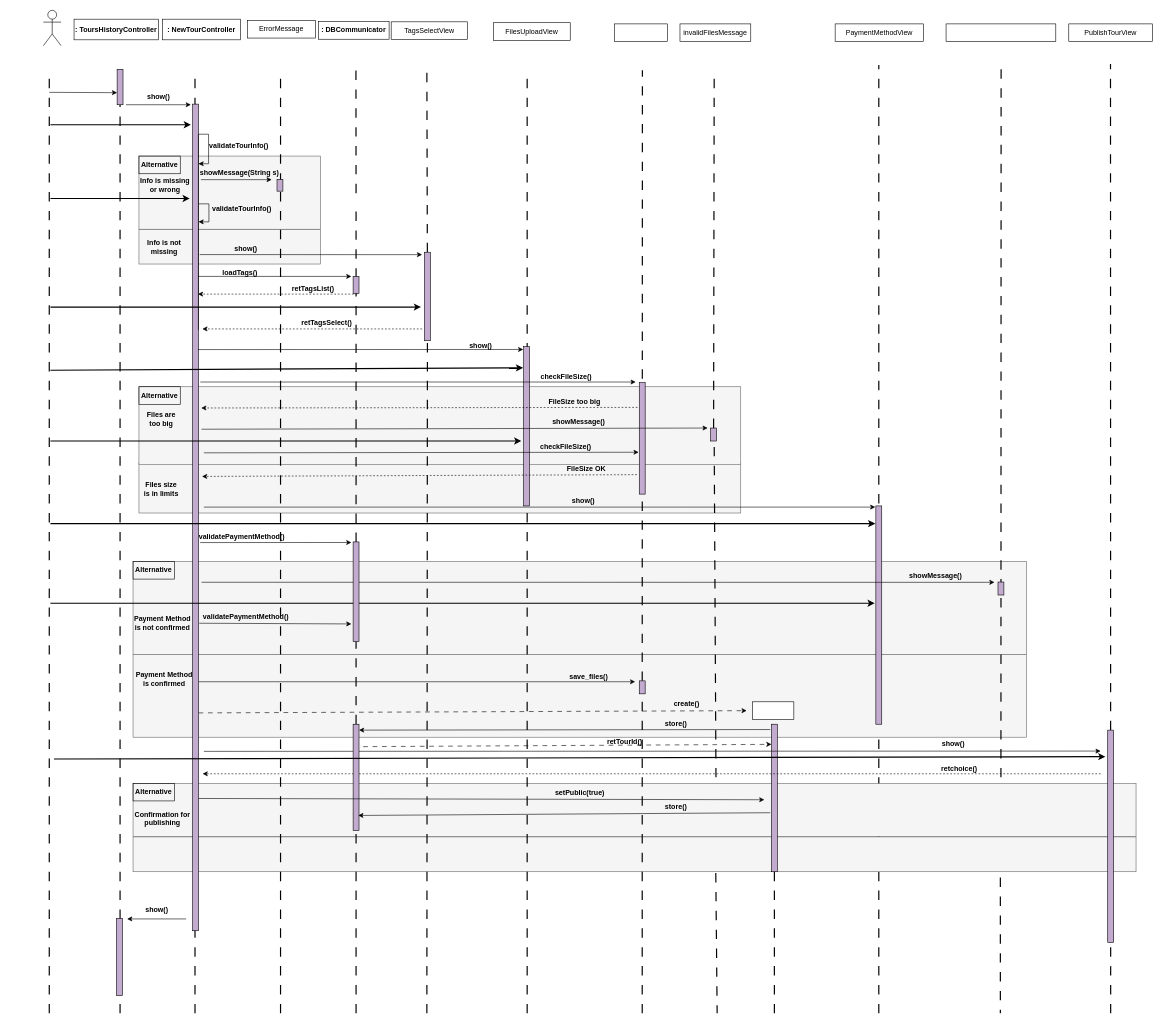
Image size: 1163x1025. Some labels were removed from this diagram. The centre of each missing label's shape, as x and y in pixels:
Confirmation for saving: point 634,854
InvalidPaymentMenthodMessage: point 1000,32
New : Tour: point 773,710
userfiles: point 641,32
Ξεναγός / Πολιτιστικός οργανισμός: point 52,28
